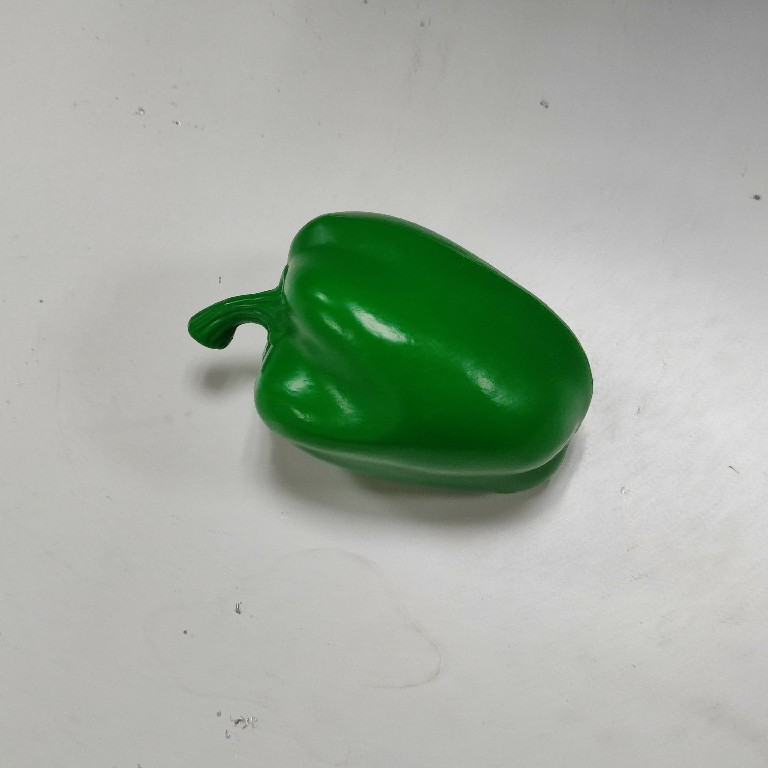fruit_pepper: (184, 208, 597, 498)
